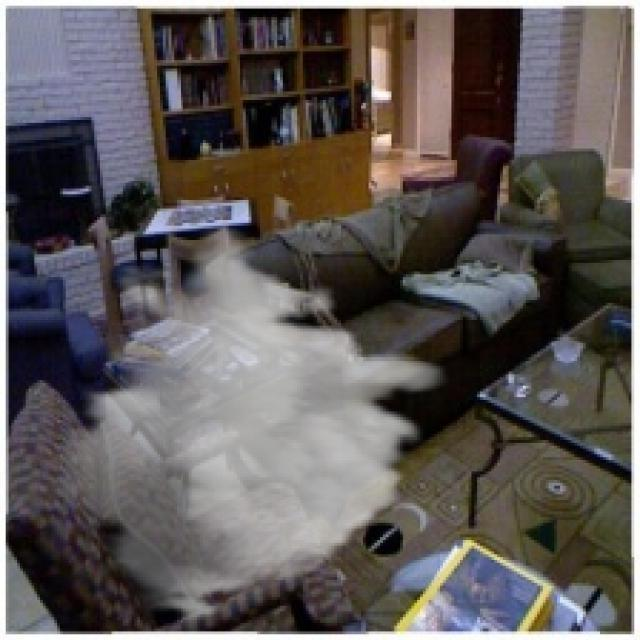Smoke: (39, 223, 452, 623)
